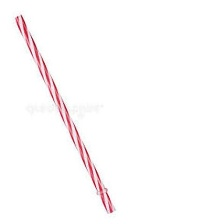drinking_straw: (9, 7, 121, 219)
